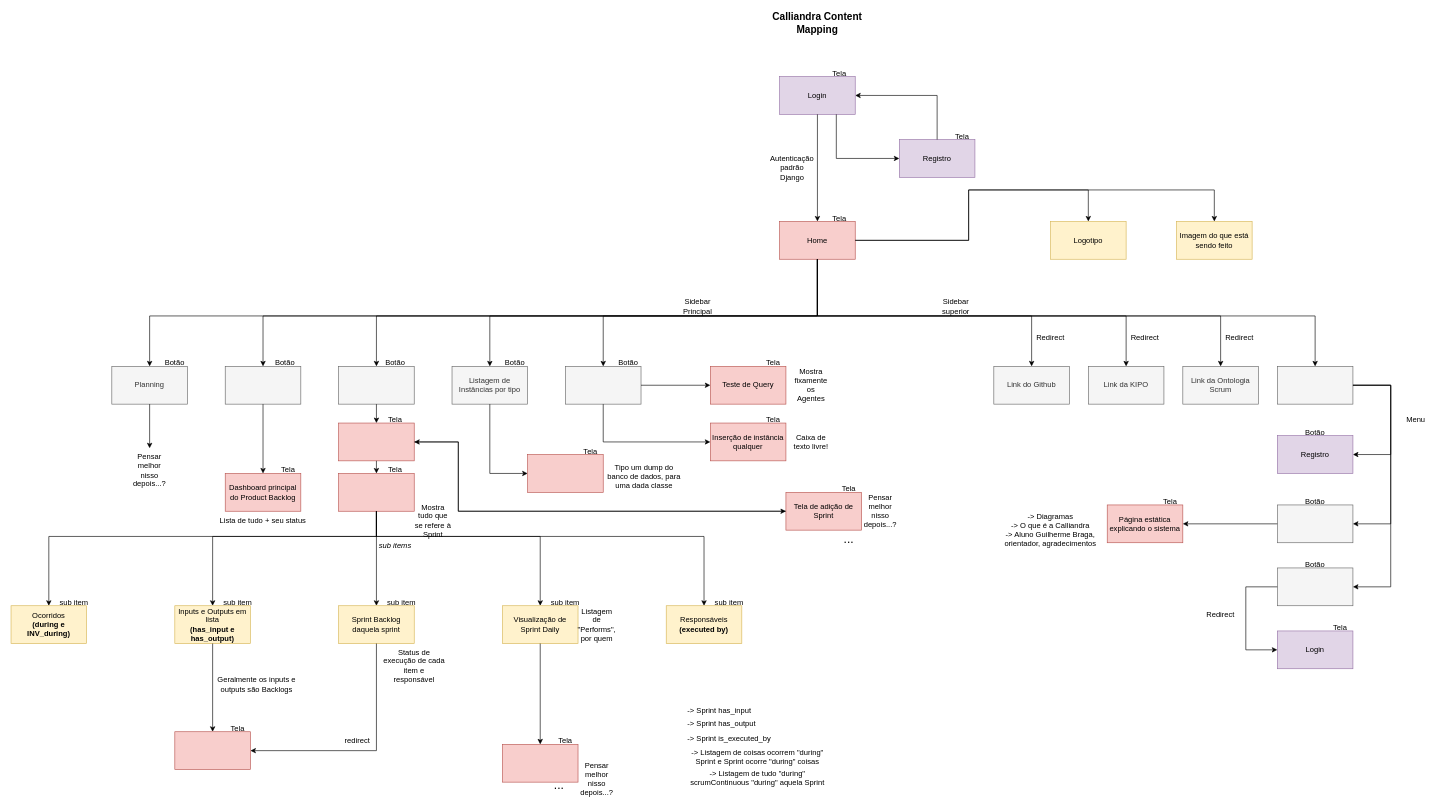
This 1446x808 diagram has some shape labels left out. Here are the shapes that lost their labels. From the top down, the centre of each, then its label:
At [263,385]: "Product Backlog".
At [376,385]: "Seletor de Sprint".
At [603,385]: "Menu de Testes".
At [1315,385]: "Dropdown menu".
At [376,441]: "Listagem de Sprints".
At [376,492]: "Dashboard principal da Sprint".
At [565,473]: "Tela que mostra tabela com instâncias, testes de interface".
At [1315,523]: "Sobre...".
At [1315,586]: "Sair".
At [212,750]: "Tela de visualização de específica Sprint Backlog".
At [540,763]: "Dashboard de uma Decisão".
